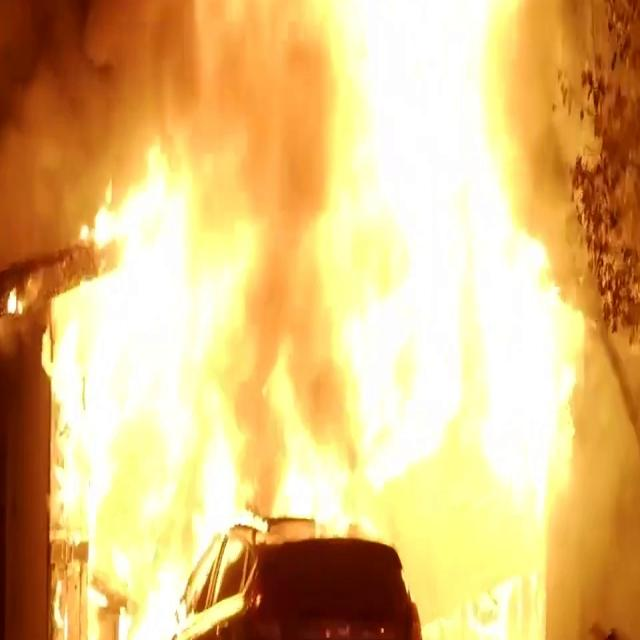fire: (342, 0, 567, 472), (192, 0, 336, 465), (67, 257, 171, 640), (440, 480, 547, 640), (110, 106, 193, 242)
